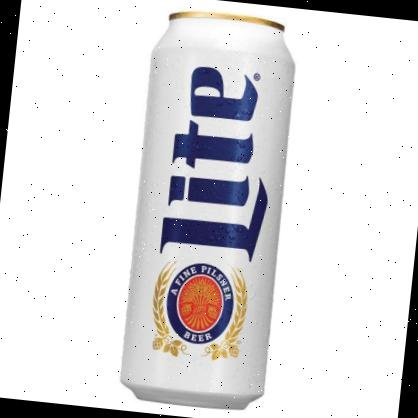can: (114, 6, 304, 412)
